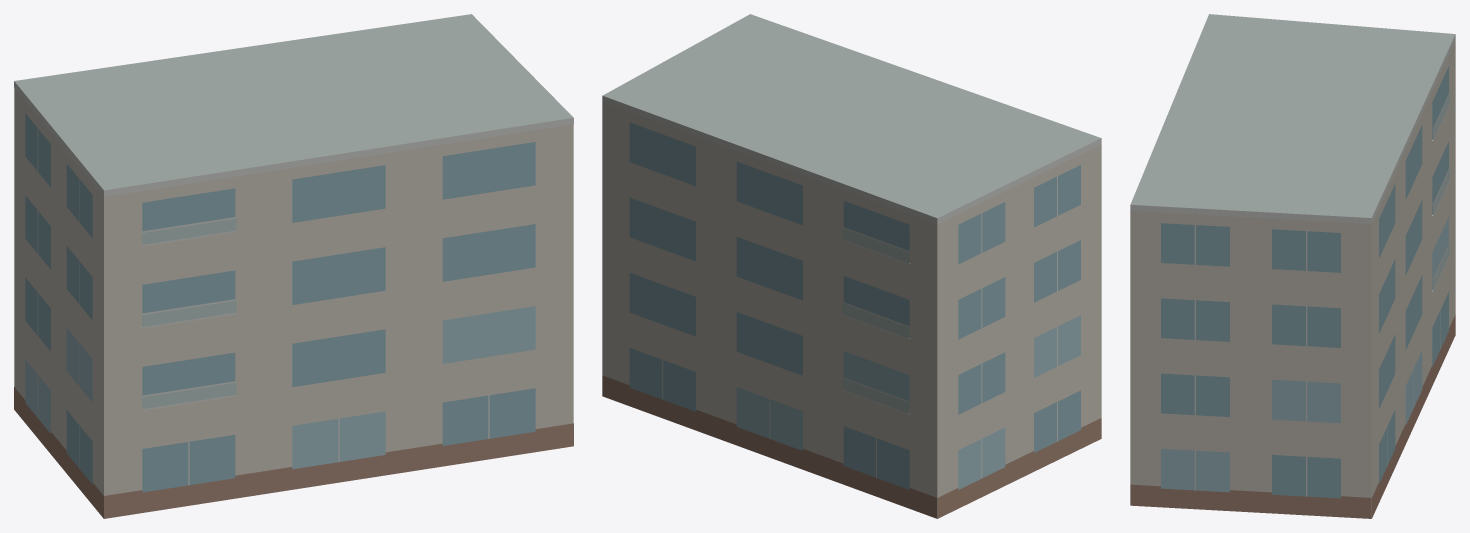
File: residential-5e20d512-d7aa-4296-bf5d-0ef88860086d.glb
3 views of the same model, side by side, from view 1: azimuth 30°, elevation 25°; view 2: azimuth 150°, elevation 25°; view 3: azimuth 270°, elevation 25° (orthographic). The views are drawn at different scales.
Parts seen in each view (by area): view 1: residential-5e20d512-d7aa-4296-bf5d-0ef88860086d.tmp; view 2: residential-5e20d512-d7aa-4296-bf5d-0ef88860086d.tmp; view 3: residential-5e20d512-d7aa-4296-bf5d-0ef88860086d.tmp.
Boxes of the visible parts, left/top/right/bottom form: residential-5e20d512-d7aa-4296-bf5d-0ef88860086d.tmp: left=14, top=14, right=573, bottom=518; residential-5e20d512-d7aa-4296-bf5d-0ef88860086d.tmp: left=602, top=14, right=1101, bottom=518; residential-5e20d512-d7aa-4296-bf5d-0ef88860086d.tmp: left=1130, top=14, right=1455, bottom=518.
Bounding box in the file's own units: 17.76 × 12.2 × 11.97.
